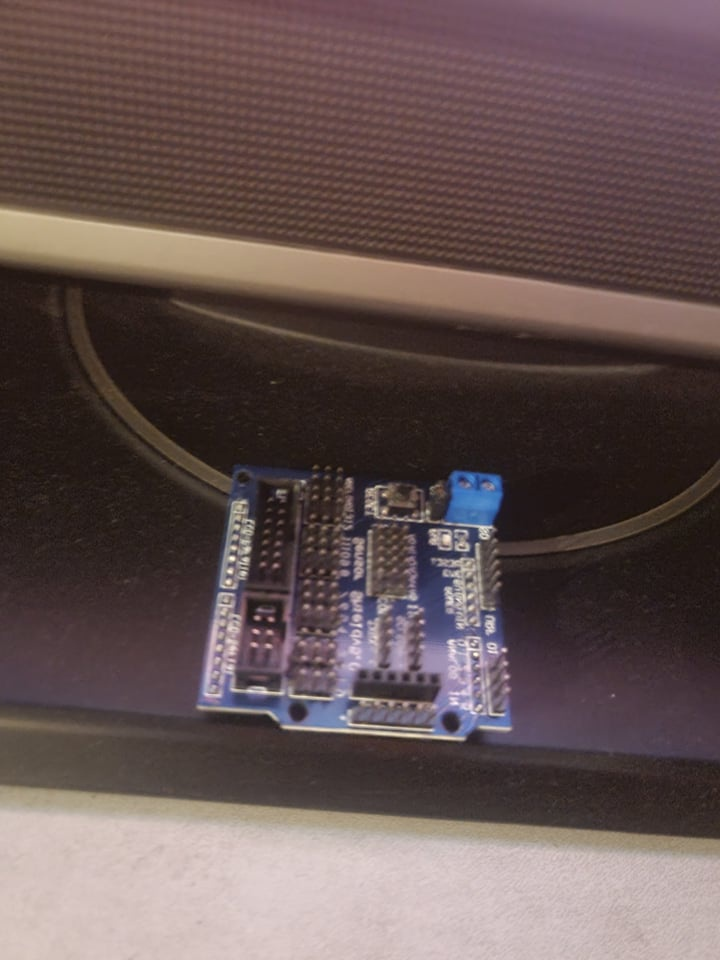5V EXPANSION: (194, 465, 511, 743)
